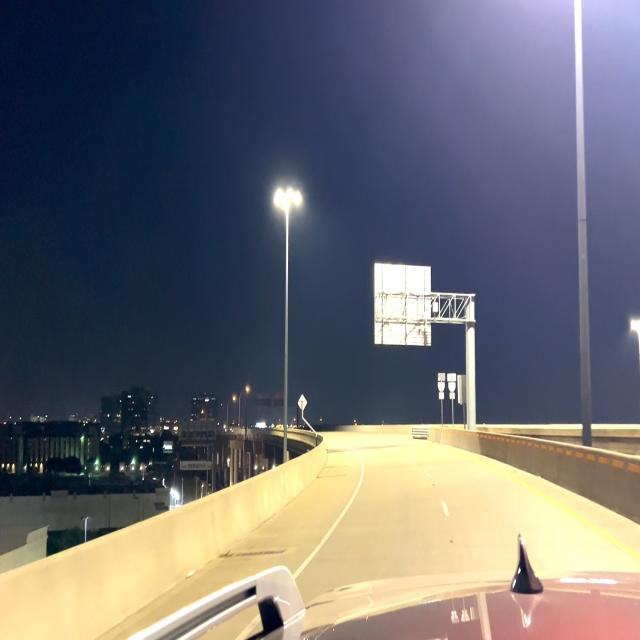back-of-sign: (375, 261, 432, 346)
